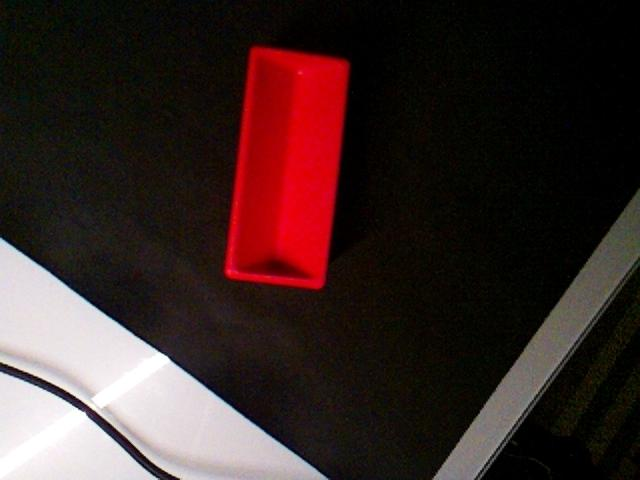red: (223, 44, 352, 291)
